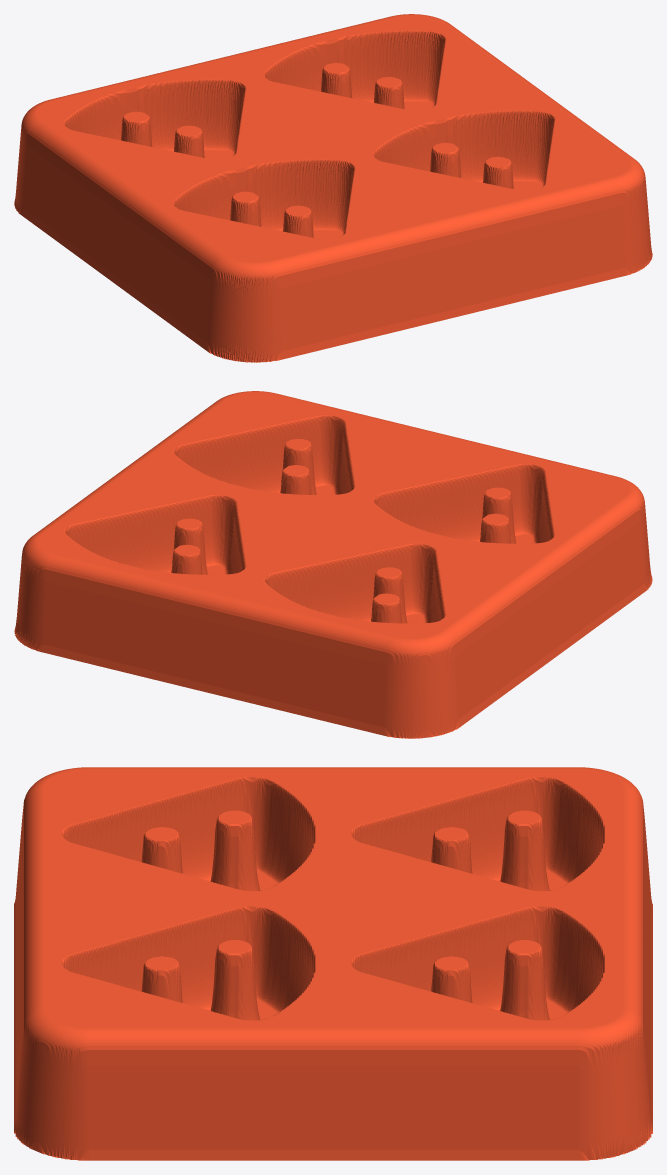
The model's file is mold.glb.
3 renders of one model, top to bottom at view 1: azimuth 30°, elevation 25°; view 2: azimuth 150°, elevation 25°; view 3: azimuth 270°, elevation 25°, orthographic. The views are drawn at different scales.
Parts seen in each view (by area): view 1: geometry_0; view 2: geometry_0; view 3: geometry_0.
Part boxes in pixels (bbox=[...]): geometry_0: bbox=[14, 14, 652, 362]; geometry_0: bbox=[14, 391, 652, 738]; geometry_0: bbox=[14, 767, 652, 1160].
Bounding box in the file's own units: 0.0808 × 0.0159 × 0.0768.
